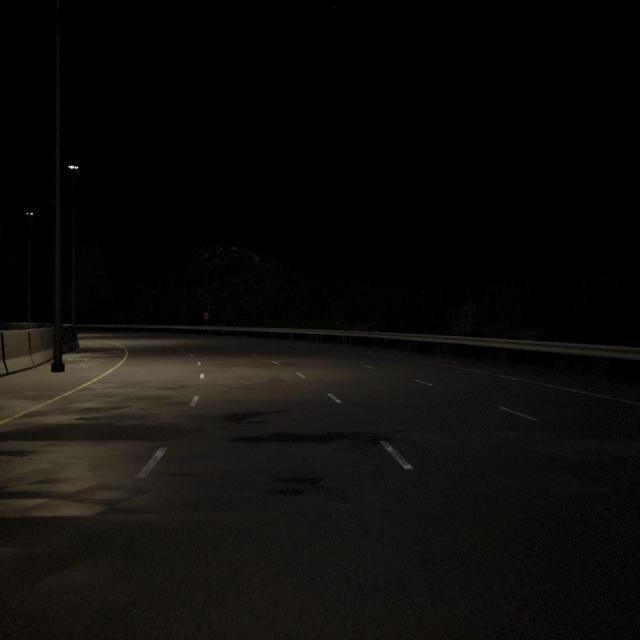Traffic_Signs: (204, 312, 208, 319)
